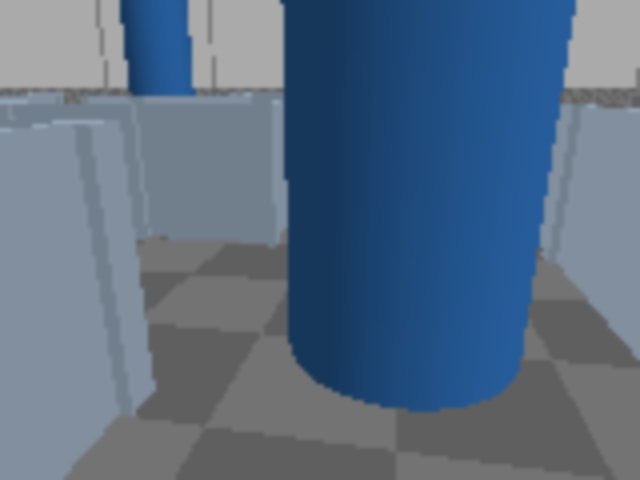person: (252, 0, 638, 409)
